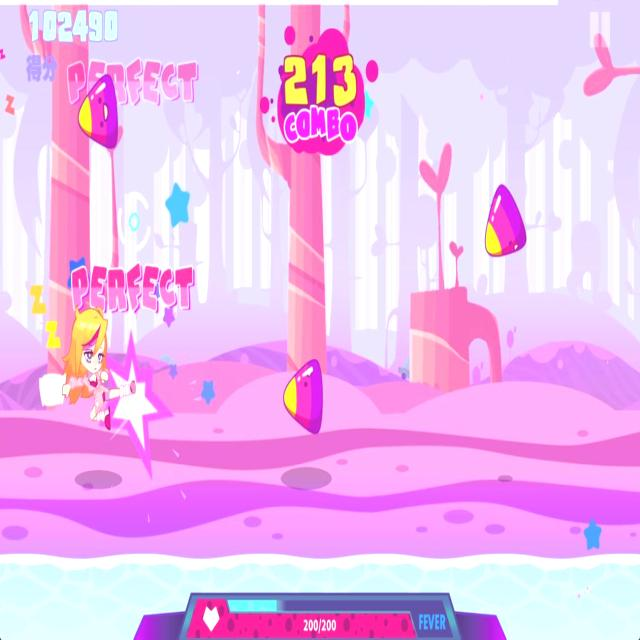jian: (76, 68, 122, 152), (483, 178, 529, 260), (284, 354, 326, 439)
